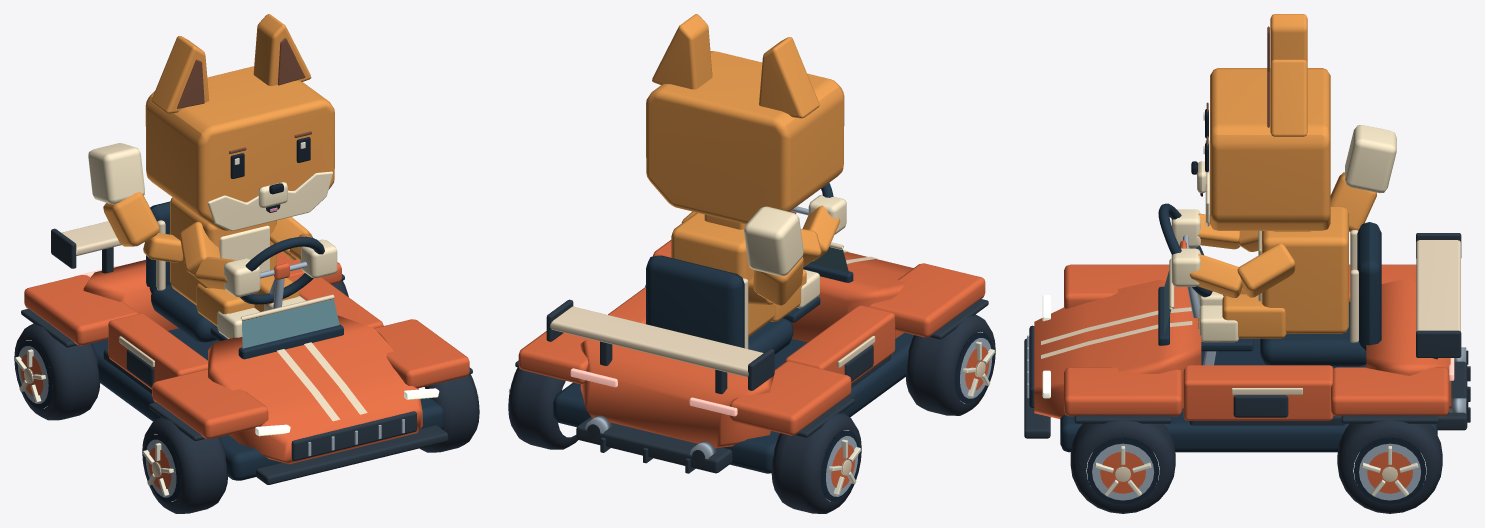
The model's file is kart_rubah.glb.
The picture shows the model from 3 angles, left to right: view 1: azimuth 30°, elevation 25°; view 2: azimuth 150°, elevation 25°; view 3: azimuth 270°, elevation 25°; orthographic projection. The views are drawn at different scales.
Visible parts, largest first — view 1: chassis, driver_pose, wheel_rl_spin, wheel_fl_spin, tail, ear_l, ear_r, wheel_fr_spin, steering, eyes; view 2: chassis, driver_pose, wheel_rl_spin, wheel_fl_spin, tail, wheel_rr_spin, ear_l, ear_r; view 3: chassis, driver_pose, wheel_fr_spin, wheel_rr_spin, tail, ear_r, ear_l, steering.
Part boxes in pixels (x1=…): chassis: x1=21, y1=201, x2=472, y2=484; driver_pose: x1=145, y1=66, x2=337, y2=338; wheel_rl_spin: x1=14, y1=323, x2=100, y2=420; wheel_fl_spin: x1=142, y1=417, x2=227, y2=513; tail: x1=88, y1=143, x2=182, y2=262; ear_l: x1=151, y1=36, x2=209, y2=113; ear_r: x1=253, y1=14, x2=311, y2=85; wheel_fr_spin: x1=419, y1=374, x2=479, y2=452; steering: x1=239, y1=236, x2=324, y2=304; eyes: x1=230, y1=137, x2=310, y2=178; chassis: x1=515, y1=240, x2=988, y2=473; driver_pose: x1=646, y1=51, x2=846, y2=336; wheel_rl_spin: x1=771, y1=412, x2=861, y2=513; wheel_fl_spin: x1=905, y1=314, x2=995, y2=415; tail: x1=744, y1=206, x2=803, y2=306; wheel_rr_spin: x1=508, y1=367, x2=577, y2=449; ear_l: x1=759, y1=37, x2=819, y2=118; ear_r: x1=652, y1=14, x2=712, y2=89; chassis: x1=1024, y1=222, x2=1470, y2=452; driver_pose: x1=1171, y1=68, x2=1348, y2=342; wheel_fr_spin: x1=1070, y1=420, x2=1175, y2=513; wheel_rr_spin: x1=1337, y1=420, x2=1442, y2=513; tail: x1=1330, y1=125, x2=1396, y2=231; ear_r: x1=1267, y1=59, x2=1307, y2=136; ear_l: x1=1267, y1=14, x2=1307, y2=72; steering: x1=1158, y1=203, x2=1212, y2=297.
Size of what is drawn, in the model's own units: 1.46 by 1.75 by 1.74.
